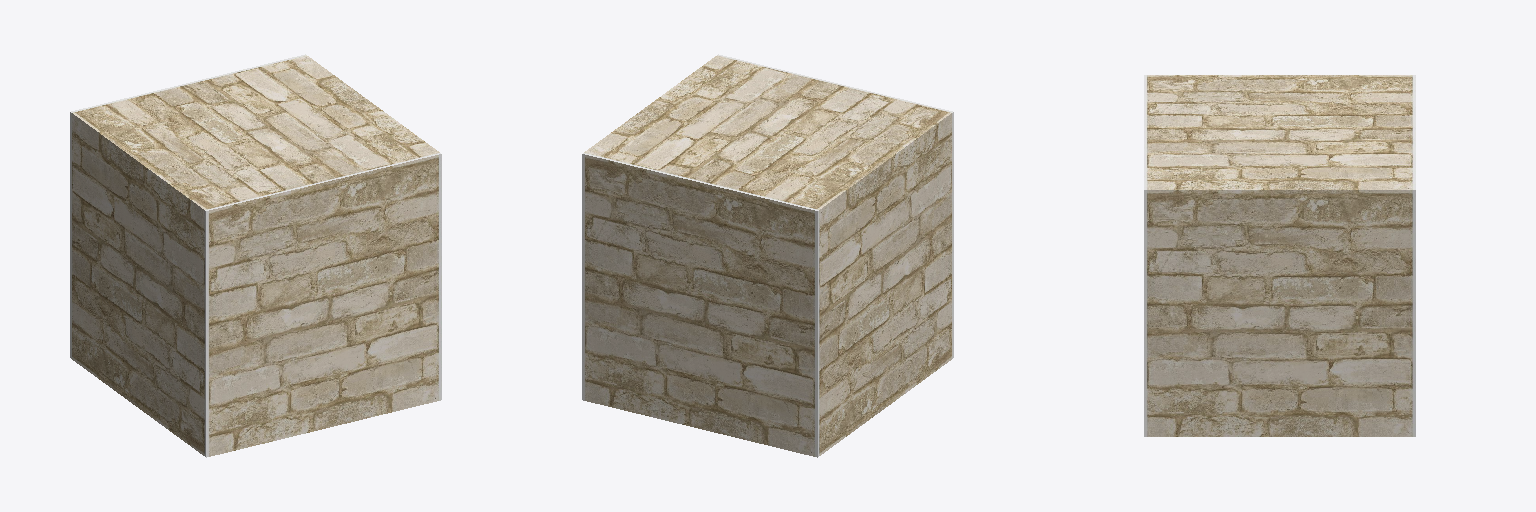
3 views of the same model, side by side, from view 1: azimuth 30°, elevation 25°; view 2: azimuth 150°, elevation 25°; view 3: azimuth 270°, elevation 25° (orthographic).
Parts seen in each view (by area): view 1: Cube_Cube.002; view 2: Cube_Cube.002; view 3: Cube_Cube.002.
Boxes of the visible parts, box(x1,y1,x2,y2) form: Cube_Cube.002: box(70, 54, 441, 457); Cube_Cube.002: box(582, 54, 953, 457); Cube_Cube.002: box(1144, 75, 1415, 436).
Size of the model in its own units: 2 by 2 by 2.
Materials: 1 (1 with a texture image).